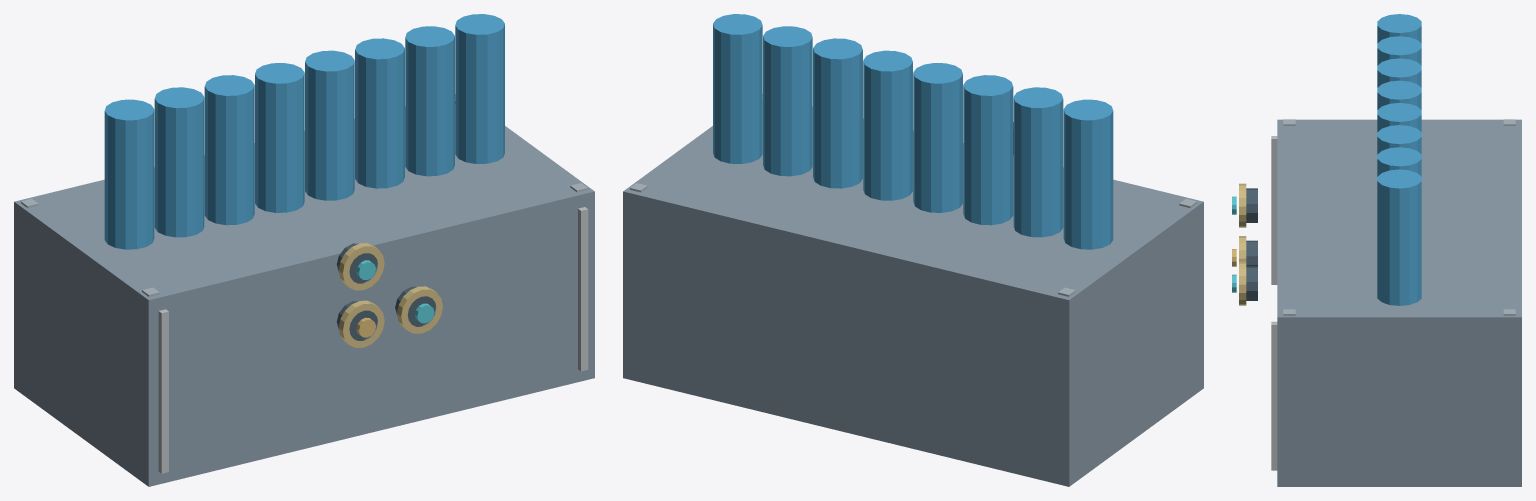
The model's file is 46_L83_SupercapacitorRideThroughModule.glb.
3 renders of one model, left to right at view 1: azimuth 30°, elevation 25°; view 2: azimuth 150°, elevation 25°; view 3: azimuth 270°, elevation 25°, orthographic. The views are drawn at different scales.
Visible parts, largest first — view 1: SupercapacitorRideThroughModule_Node_0000, SupercapacitorRideThroughModule_Node_0007, SupercapacitorRideThroughModule_Node_0008, SupercapacitorRideThroughModule_Node_0009, SupercapacitorRideThroughModule_Node_0012, SupercapacitorRideThroughModule_Node_0011, SupercapacitorRideThroughModule_Node_0013, SupercapacitorRideThroughModule_Node_0010, SupercapacitorRideThroughModule_Node_0014, SupercapacitorRideThroughModule_Node_0005, SupercapacitorRideThroughModule_Node_0006, SupercapacitorRideThroughModule_Node_0026 (+2 smaller); view 2: SupercapacitorRideThroughModule_Node_0000, SupercapacitorRideThroughModule_Node_0007, SupercapacitorRideThroughModule_Node_0008, SupercapacitorRideThroughModule_Node_0009, SupercapacitorRideThroughModule_Node_0012, SupercapacitorRideThroughModule_Node_0011, SupercapacitorRideThroughModule_Node_0013, SupercapacitorRideThroughModule_Node_0010, SupercapacitorRideThroughModule_Node_0014; view 3: SupercapacitorRideThroughModule_Node_0000, SupercapacitorRideThroughModule_Node_0014, SupercapacitorRideThroughModule_Node_0006, SupercapacitorRideThroughModule_Node_0005, SupercapacitorRideThroughModule_Node_0007, SupercapacitorRideThroughModule_Node_0012, SupercapacitorRideThroughModule_Node_0009, SupercapacitorRideThroughModule_Node_0010, SupercapacitorRideThroughModule_Node_0011, SupercapacitorRideThroughModule_Node_0008, SupercapacitorRideThroughModule_Node_0013, SupercapacitorRideThroughModule_Node_0025 (+4 smaller).
Part boxes in pixels (x1,y1,x2,y2): SupercapacitorRideThroughModule_Node_0000: [14, 94, 594, 486]; SupercapacitorRideThroughModule_Node_0007: [104, 99, 154, 249]; SupercapacitorRideThroughModule_Node_0008: [154, 87, 204, 237]; SupercapacitorRideThroughModule_Node_0009: [204, 75, 254, 225]; SupercapacitorRideThroughModule_Node_0012: [355, 38, 404, 188]; SupercapacitorRideThroughModule_Node_0011: [305, 50, 354, 200]; SupercapacitorRideThroughModule_Node_0013: [405, 26, 454, 176]; SupercapacitorRideThroughModule_Node_0010: [255, 63, 304, 212]; SupercapacitorRideThroughModule_Node_0014: [455, 14, 504, 163]; SupercapacitorRideThroughModule_Node_0005: [158, 309, 168, 473]; SupercapacitorRideThroughModule_Node_0006: [578, 207, 588, 371]; SupercapacitorRideThroughModule_Node_0026: [397, 286, 442, 333]; SupercapacitorRideThroughModule_Node_0000: [623, 94, 1203, 486]; SupercapacitorRideThroughModule_Node_0007: [1063, 99, 1113, 249]; SupercapacitorRideThroughModule_Node_0008: [1013, 87, 1063, 237]; SupercapacitorRideThroughModule_Node_0009: [963, 75, 1013, 225]; SupercapacitorRideThroughModule_Node_0012: [813, 38, 862, 188]; SupercapacitorRideThroughModule_Node_0011: [863, 50, 912, 200]; SupercapacitorRideThroughModule_Node_0013: [763, 26, 812, 176]; SupercapacitorRideThroughModule_Node_0010: [913, 63, 962, 212]; SupercapacitorRideThroughModule_Node_0014: [713, 14, 762, 163]; SupercapacitorRideThroughModule_Node_0000: [1277, 119, 1521, 486]; SupercapacitorRideThroughModule_Node_0014: [1377, 169, 1421, 305]; SupercapacitorRideThroughModule_Node_0006: [1271, 321, 1277, 470]; SupercapacitorRideThroughModule_Node_0005: [1271, 136, 1277, 284]; SupercapacitorRideThroughModule_Node_0007: [1377, 14, 1421, 43]; SupercapacitorRideThroughModule_Node_0012: [1377, 125, 1421, 154]; SupercapacitorRideThroughModule_Node_0009: [1377, 58, 1421, 87]; SupercapacitorRideThroughModule_Node_0010: [1377, 80, 1421, 109]; SupercapacitorRideThroughModule_Node_0011: [1377, 103, 1421, 132]; SupercapacitorRideThroughModule_Node_0008: [1377, 36, 1421, 65]; SupercapacitorRideThroughModule_Node_0013: [1377, 147, 1421, 176]; SupercapacitorRideThroughModule_Node_0025: [1246, 266, 1257, 300].
Bounding box in the file's own units: 1.3 × 0.88 × 0.8056.
